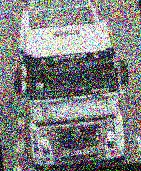truck: (17, 1, 126, 170)
